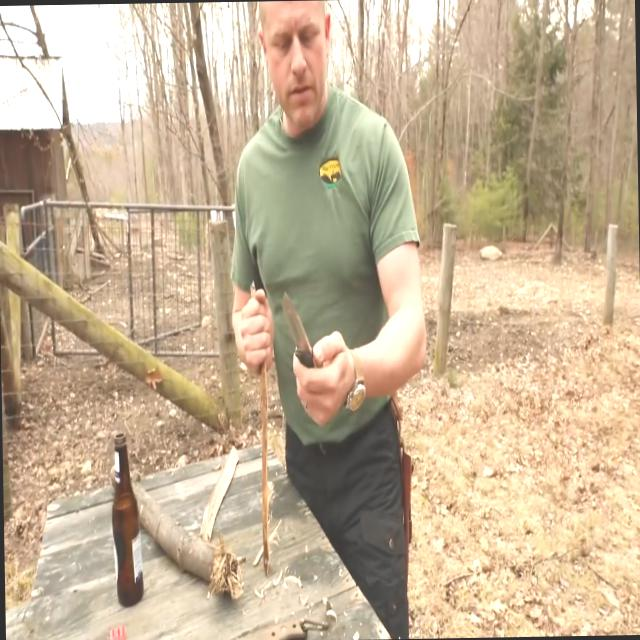knife: (278, 277, 345, 400)
